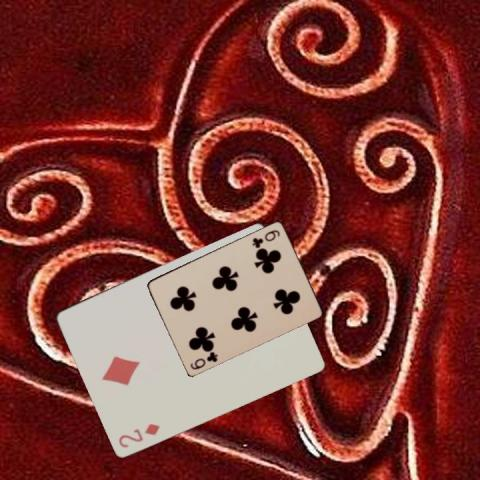2d: (115, 420, 162, 449)
6c: (188, 348, 220, 371), (250, 227, 282, 248)
